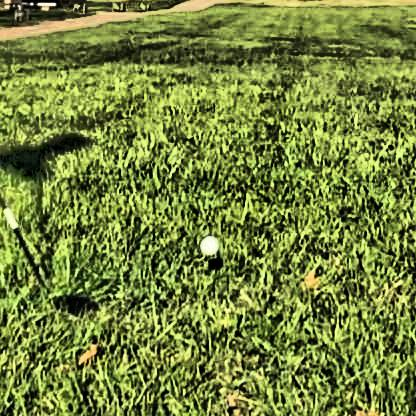golfball: (197, 232, 216, 251)
